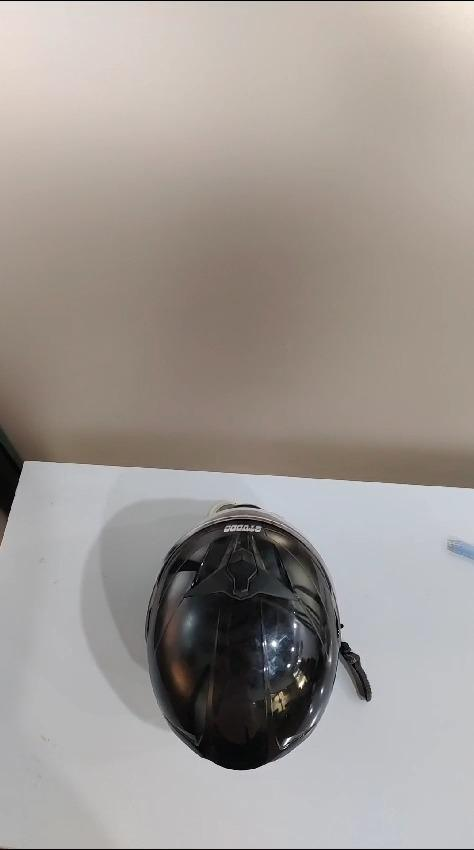Helmet: (120, 504, 361, 771)
